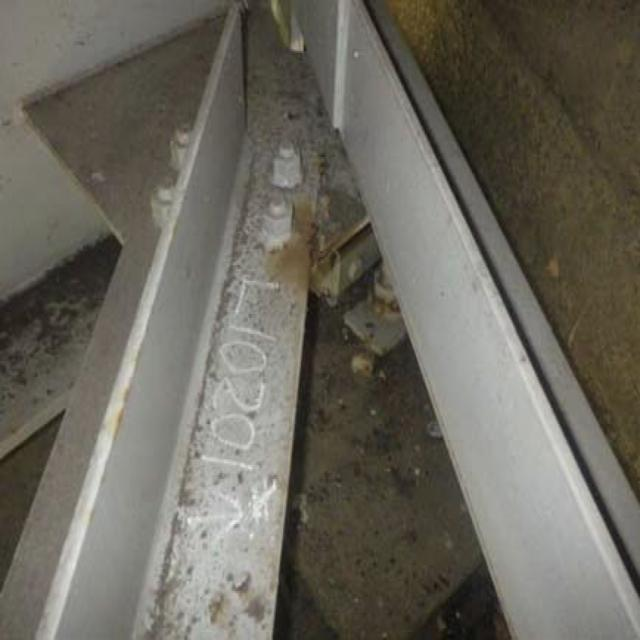corrosion: (259, 173, 377, 304)
